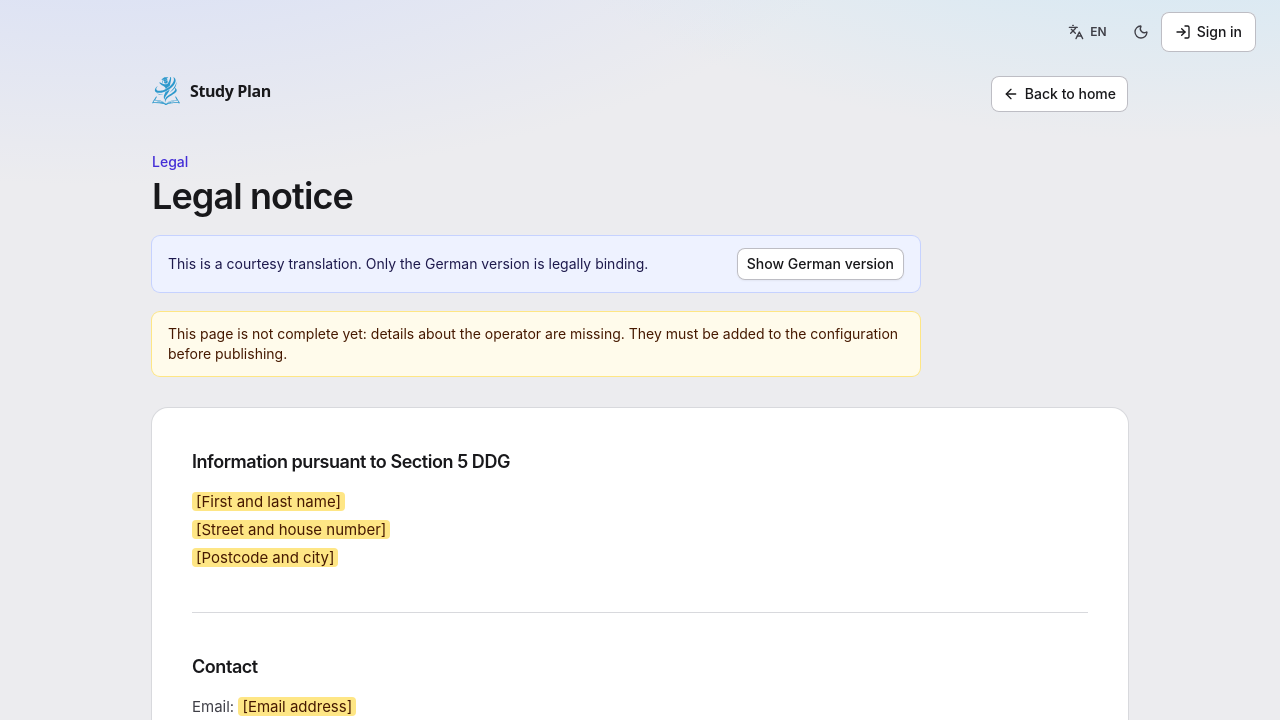
Test: legal pages in English › marks the legal notice as a courtesy translation and switches to German
Check: the heading "Legal notice" is shown, box [152, 174, 353, 218]
Check: the heading "Information pursuant to Section 5 DDG" is shown, box [192, 451, 510, 472]
What coordinates should you click on to do the following:
click the button "Show German version"
I would click on:
 (820, 264)
Its box is [737, 248, 904, 280].
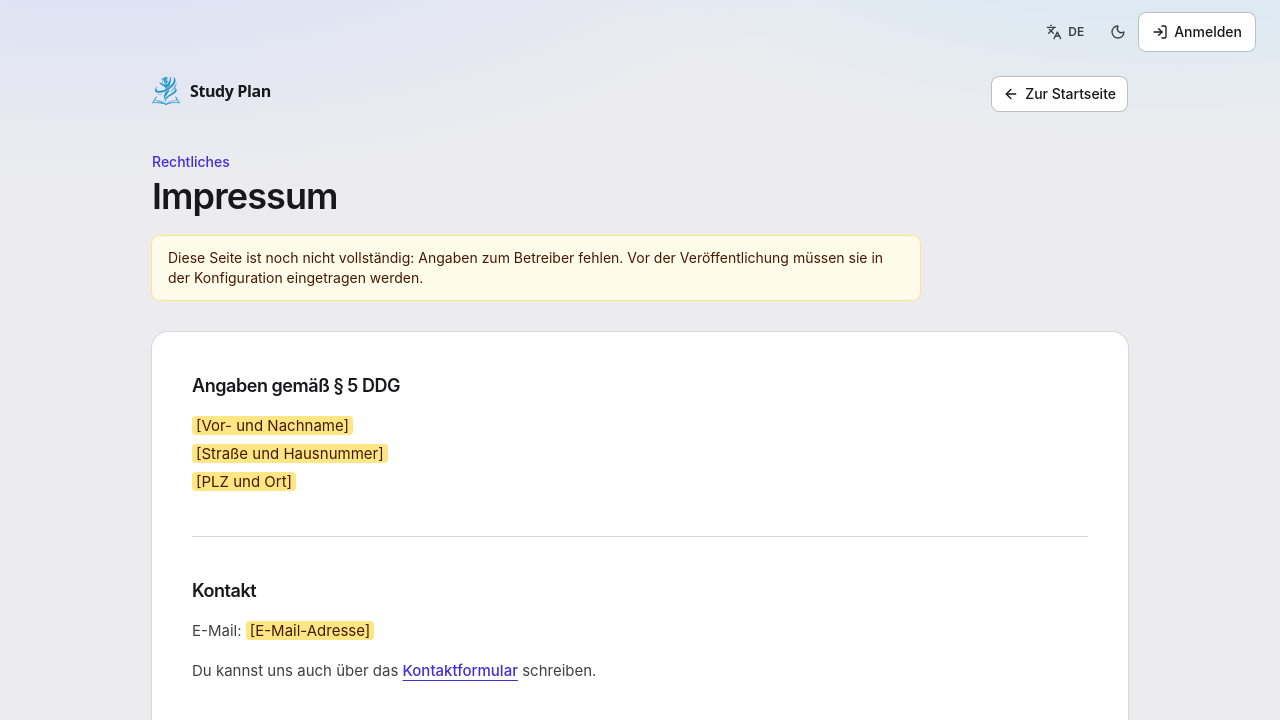
Check: the heading "Impressum" is shown, box [152, 174, 338, 218]
Check: the heading "Angaben gemäß § 5 DDG" is shown, box [192, 375, 400, 396]
Check: the button "Show German version" is gone
